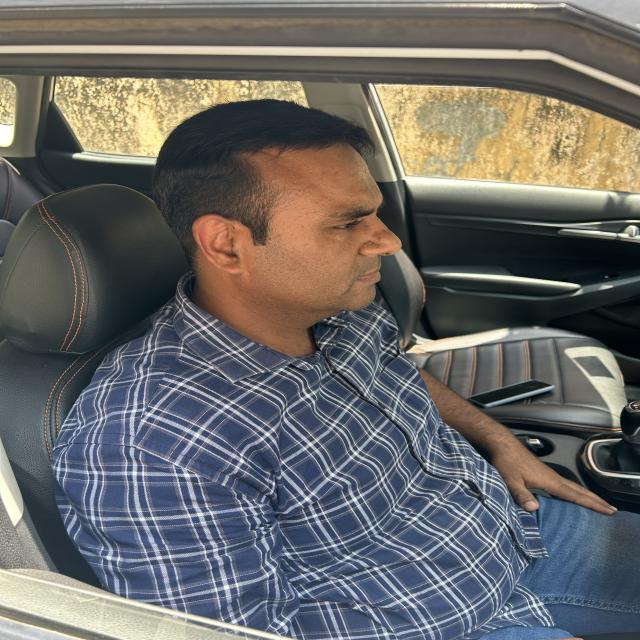no-seatbelt: (136, 318, 506, 584)
